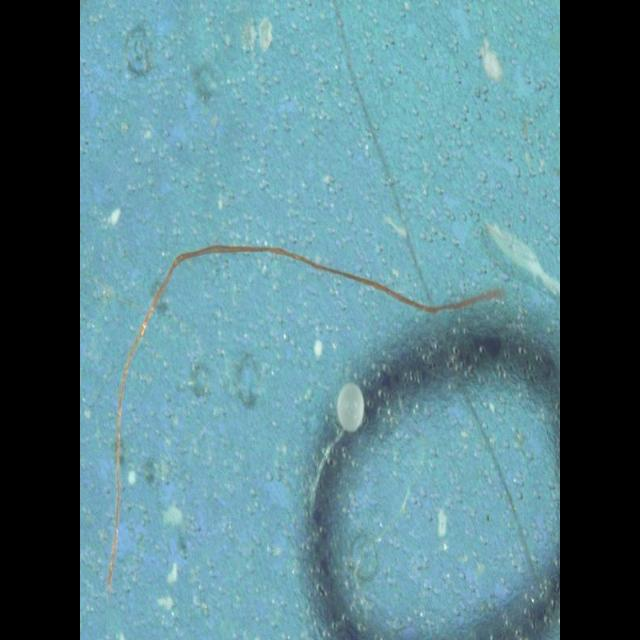Fibre: (103, 228, 513, 602)
